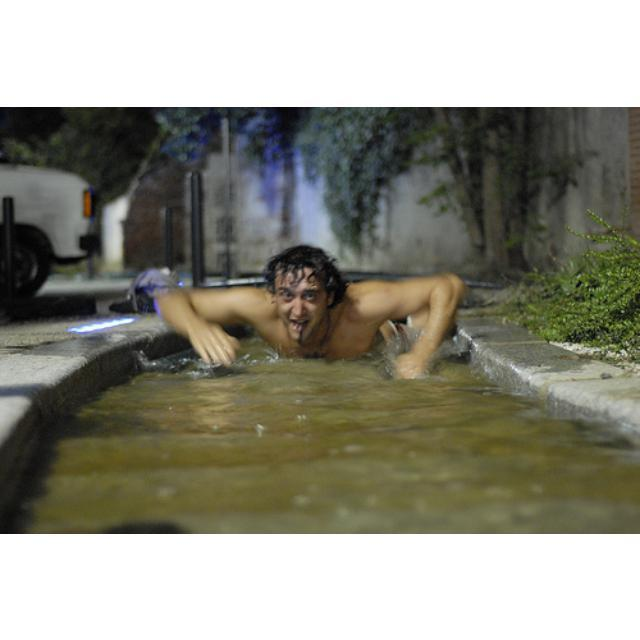human: (153, 246, 467, 385)
